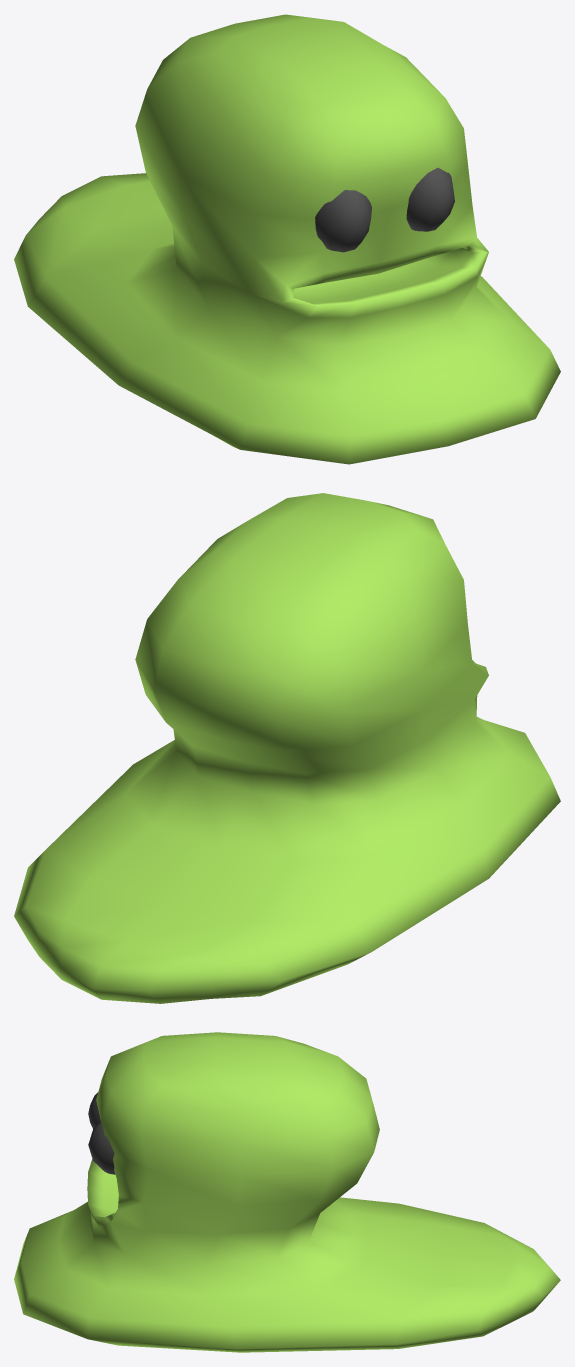
The model's file is SK_slimeBoyTest.fbx.
3 renders of one model, top to bottom at view 1: azimuth 30°, elevation 25°; view 2: azimuth 150°, elevation 25°; view 3: azimuth 270°, elevation 25°, orthographic. The views are drawn at different scales.
Visible parts, largest first — view 1: Cube; view 2: Cube; view 3: Cube.
Boxes of the visible parts, bbox=[...] form: Cube: bbox=[14, 14, 560, 464]; Cube: bbox=[14, 493, 560, 1003]; Cube: bbox=[14, 1032, 560, 1352].
Size of the model in its own units: 281 by 235 by 466.
